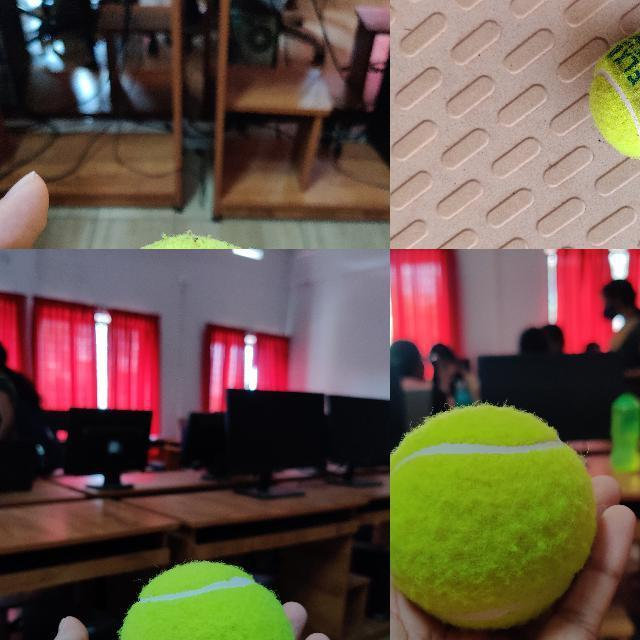tennis-ball: (390, 404, 596, 630), (118, 562, 298, 639), (589, 30, 639, 160)
